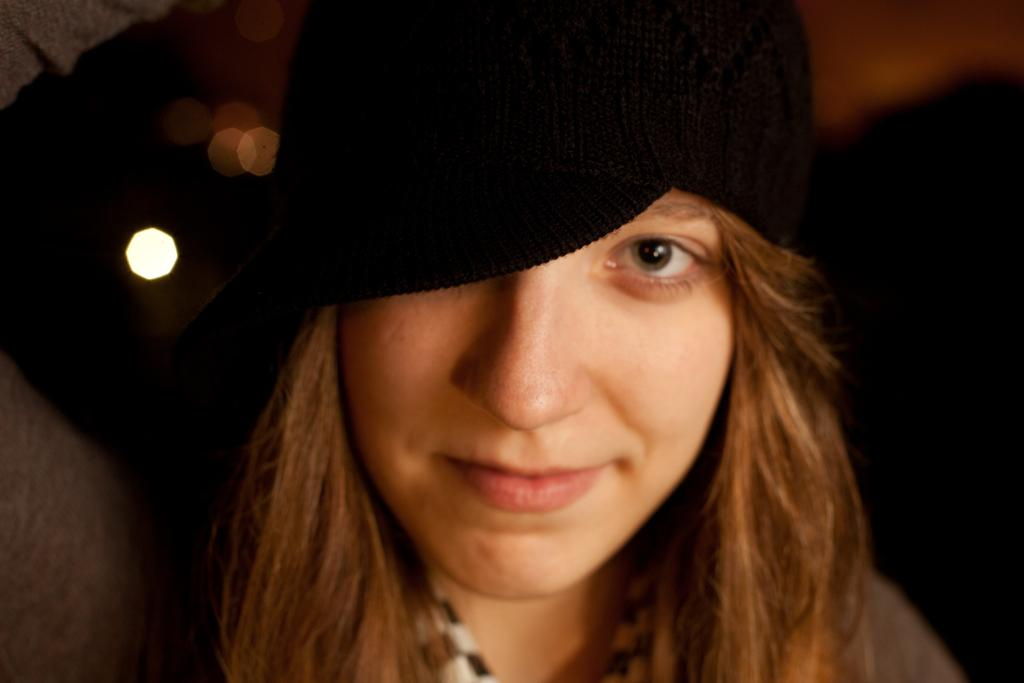Hat: (212, 5, 818, 310)
